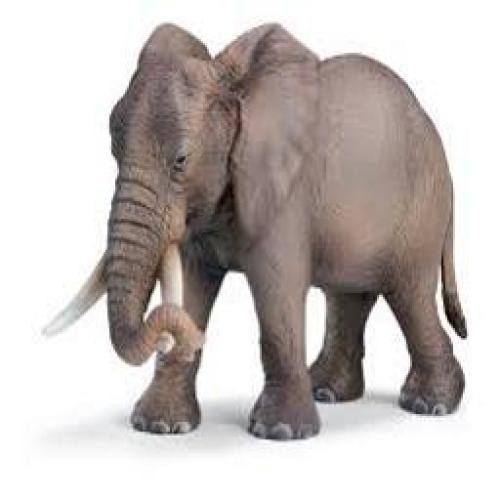african_elephant-endangered: (74, 23, 484, 441)
